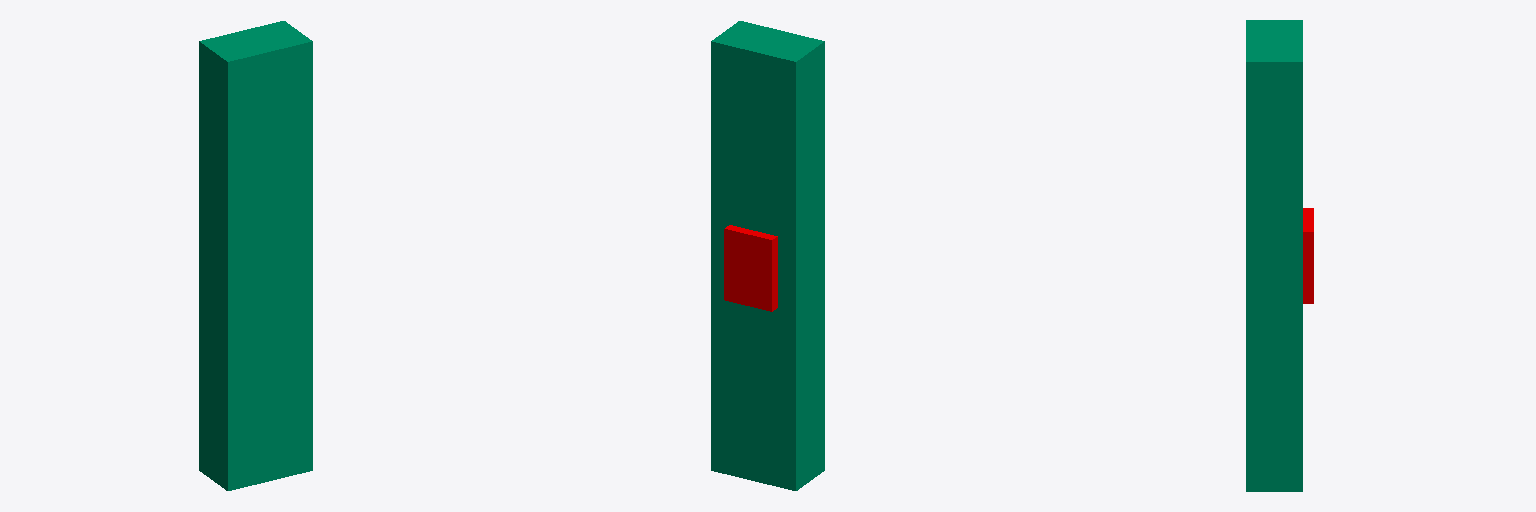
URDF robot description (knife):
<?xml version='1.0' encoding='utf-8'?>
<robot name="knife">
  <link name="base" /><joint name="joint_0" type="fixed"><origin xyz="0 0 0" rpy="0 0 0" /><parent link="base" /><child link="link_0" /></joint><link name="link_1">
    <visual name="link_1">
      <origin xyz="0 0.009077 0" rpy="0 0 0" />
      <geometry>
        <box size="0.014787610903597832 0.002864145207260273 0.021206111974749618" /></geometry>
    <material name="red"><color rgba="1 0 0 1" /></material></visual>
    <collision>
      <origin xyz="0 0.009077 0" rpy="0 0 0" />
      <geometry>
        <box size="0.014787610903597832 0.002864145207260273 0.021206111974749618" /></geometry>
    </collision>
    </link>
  <joint name="joint_1" type="prismatic">
    <origin xyz="0 0 0" />
    <axis xyz="0 0 1" />
    <child link="link_1" />
    <parent link="link_0" />
    <limit lower="-0.035919" upper="0.014081" effort="100.0" velocity="1.0" />
  </joint>
  <link name="link_0">
    <visual name="link_0">
      <origin xyz="0 0 0" />
      <geometry>
        <box size="0.02631801751922317 0.015290531527061762 0.12695098700704868" /></geometry>
    </visual>
    <collision>
      <origin xyz="0 0 0" />
      <geometry>
        <box size="0.02631801751922317 0.015290531527061762 0.12695098700704868" /></geometry>
    </collision>
    </link>
</robot>

--- What the picture shows (computed from the rendered views, not written in the file) ---
The picture shows the robot from 3 angles, left to right: view 1: azimuth 30°, elevation 25°; view 2: azimuth 150°, elevation 25°; view 3: azimuth 270°, elevation 25°; orthographic projection.
Robot: knife — 3 links, 2 joints (1 prismatic, 1 fixed); root link base; default pose: all joints at 0.
Links seen in each view (by area): view 1: link_0; view 2: link_0, link_1; view 3: link_0, link_1.
Link boxes in pixels (left/top/right/bottom): link_0: left=199, top=21, right=312, bottom=490; link_0: left=711, top=21, right=824, bottom=490; link_1: left=724, top=225, right=777, bottom=311; link_0: left=1246, top=20, right=1302, bottom=491; link_1: left=1303, top=208, right=1313, bottom=303.
Bounding box of the posed robot: 0.0263 × 0.0182 × 0.127 m (x, y, z).
Geometry: primitives only (box / cylinder / sphere), no mesh files.
